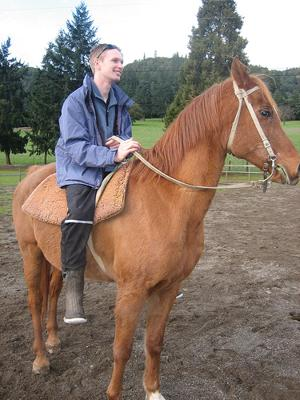person: (54, 43, 140, 327)
